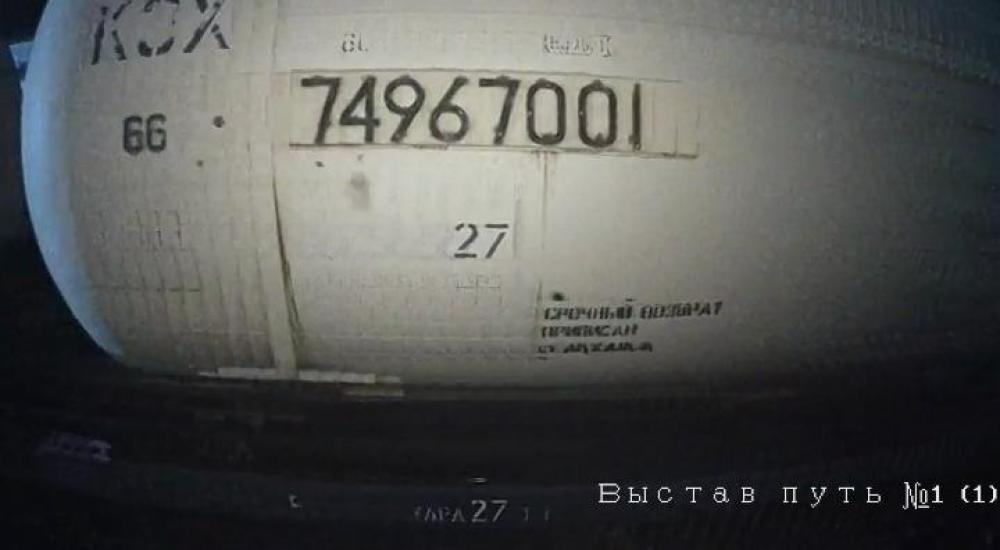Wagon-number: (287, 70, 657, 154)
